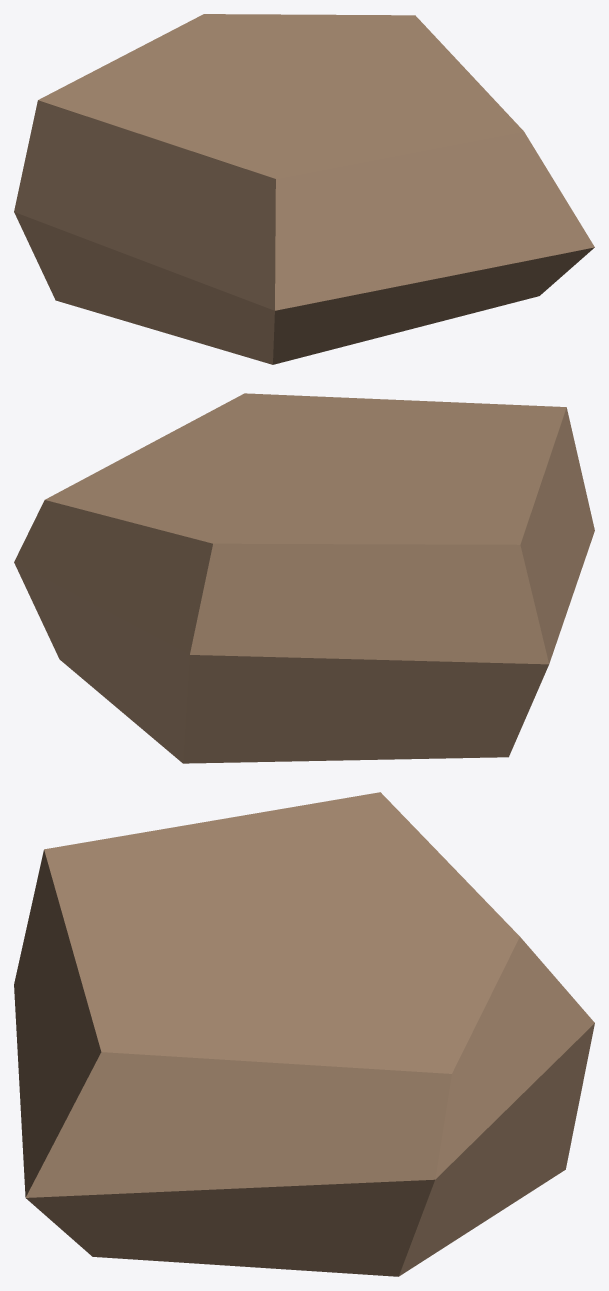
The model's file is TB_Env_Stone5_E.FBX.
3 views of the same model, one above another, from view 1: azimuth 30°, elevation 25°; view 2: azimuth 150°, elevation 25°; view 3: azimuth 270°, elevation 25° (orthographic). The views are drawn at different scales.
Parts seen in each view (by area): view 1: TB_Env_Stone5_E; view 2: TB_Env_Stone5_E; view 3: TB_Env_Stone5_E.
Part boxes in pixels (x1=…): TB_Env_Stone5_E: x1=14, y1=14, x2=594, y2=364; TB_Env_Stone5_E: x1=14, y1=393, x2=594, y2=763; TB_Env_Stone5_E: x1=14, y1=792, x2=594, y2=1276.
Size of the model in its own units: 0.3812 by 0.1567 by 0.342.
